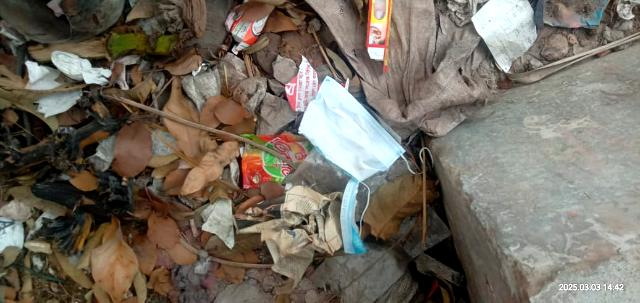mask: (279, 70, 414, 198)
